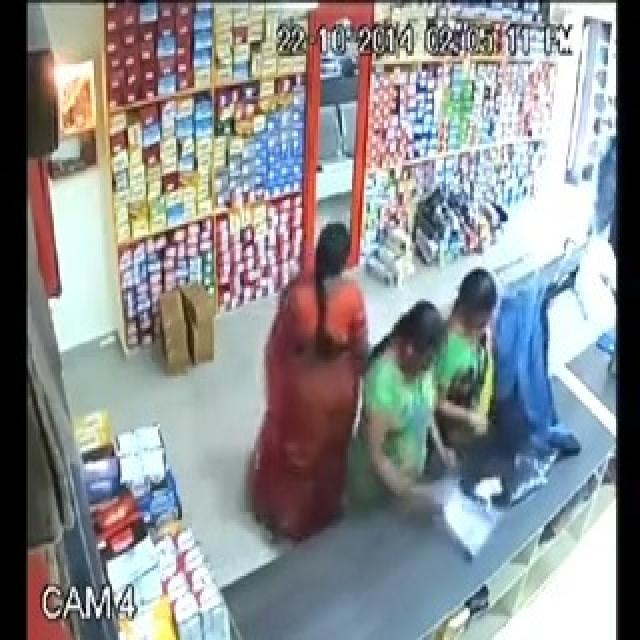normal: (449, 229, 598, 527), (239, 218, 366, 544), (344, 294, 474, 544)
